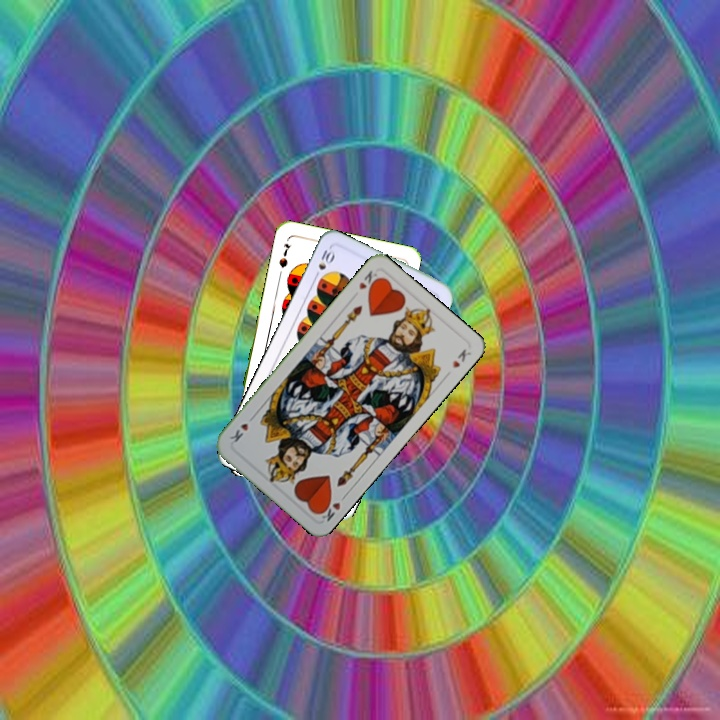HK: (314, 490, 350, 524), (355, 266, 382, 294)
S10: (310, 244, 338, 282)
S7: (275, 239, 294, 270)
